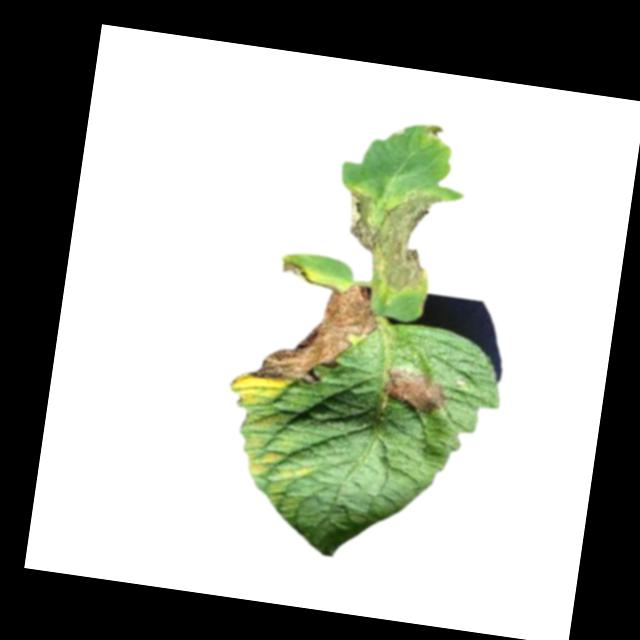Late_blight: (252, 270, 381, 400), (334, 176, 447, 300), (381, 364, 450, 415), (280, 259, 319, 287), (420, 123, 448, 146)
